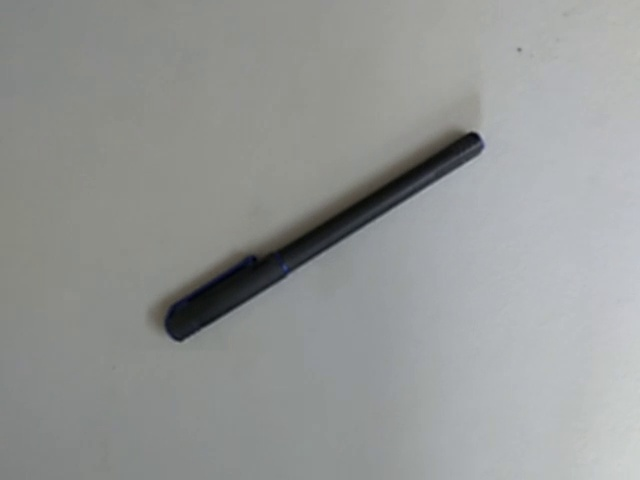Pen: (133, 119, 508, 379)
